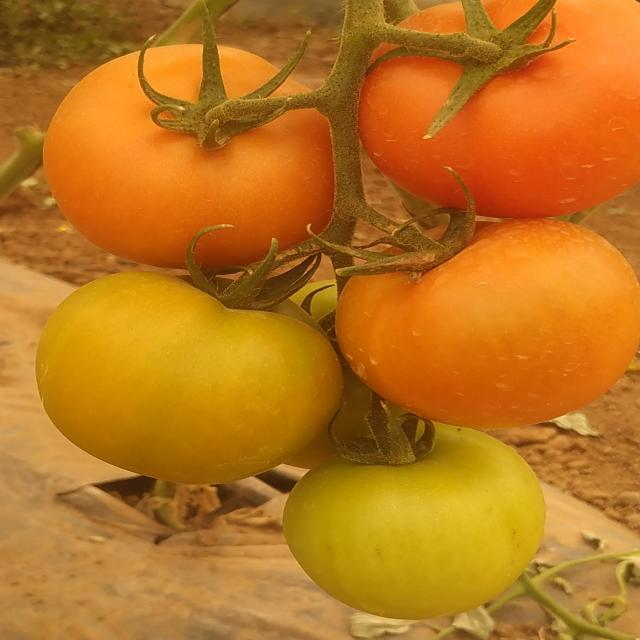Ripe Tomato: (346, 214, 633, 424), (48, 44, 326, 248), (361, 2, 640, 205)
Unripe Tomato: (26, 264, 338, 478), (288, 428, 544, 618)
